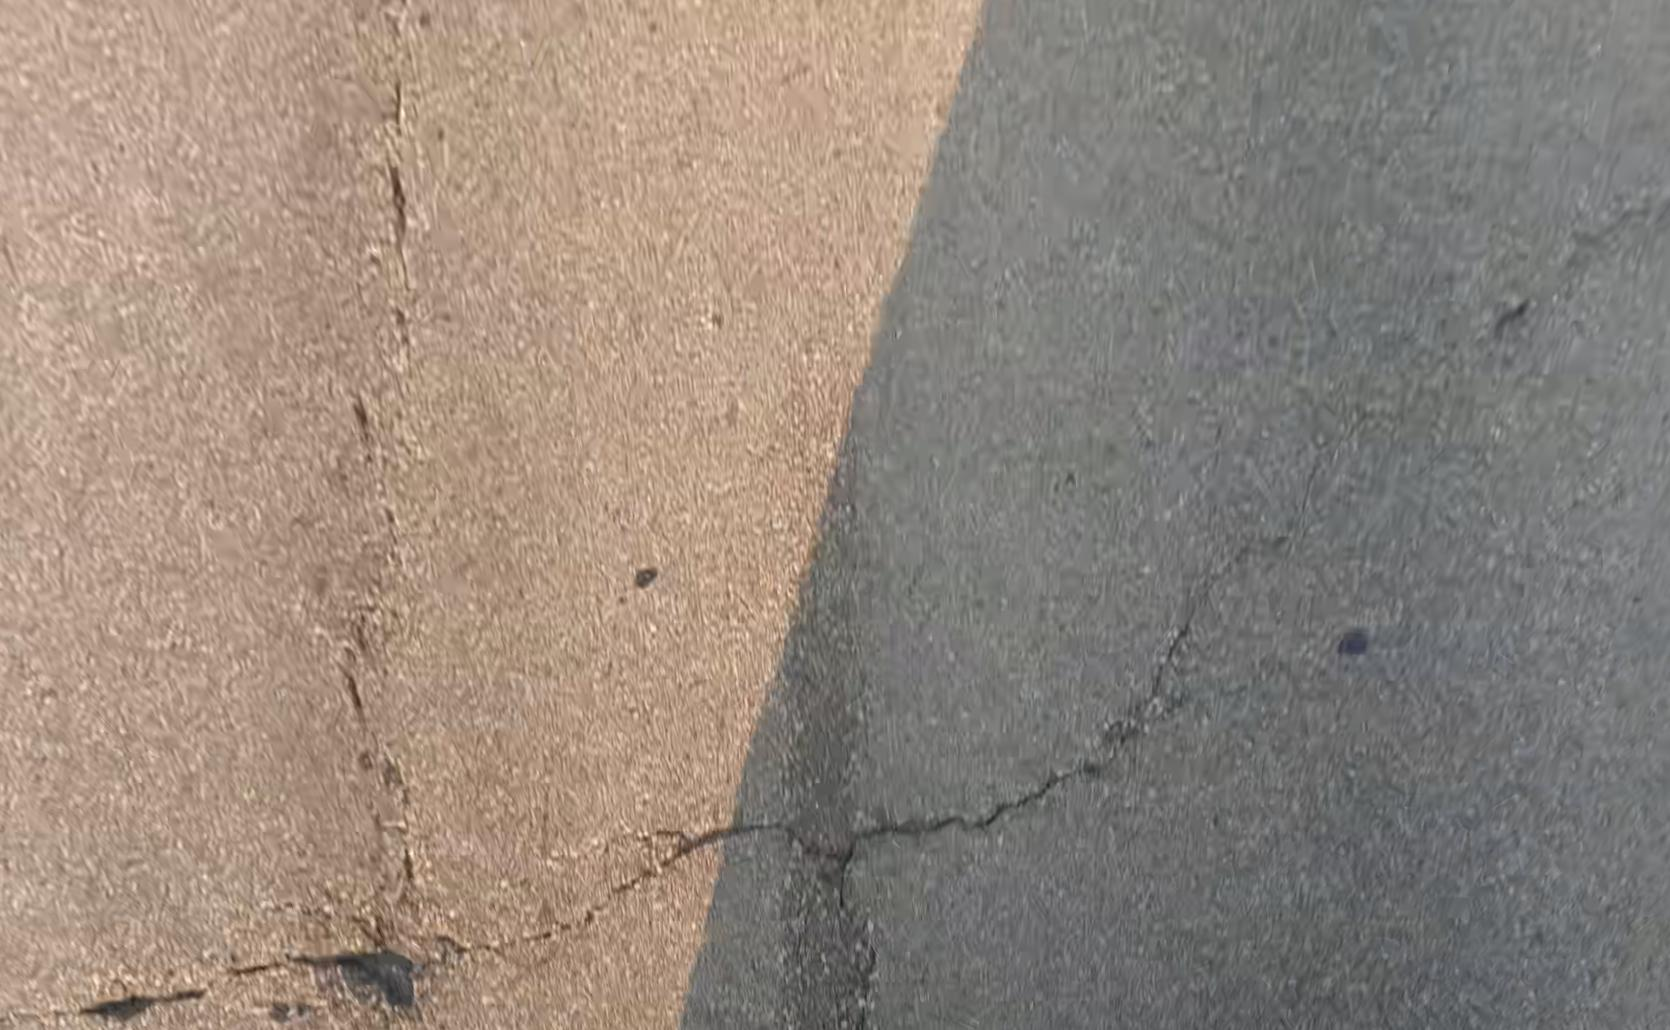pothole: (291, 911, 414, 1009), (73, 979, 159, 1022), (248, 993, 328, 1024)
